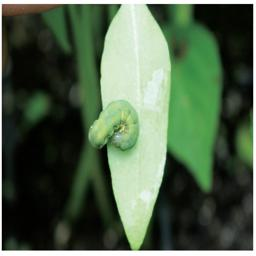Tobacco_budworm: (87, 98, 138, 151)
